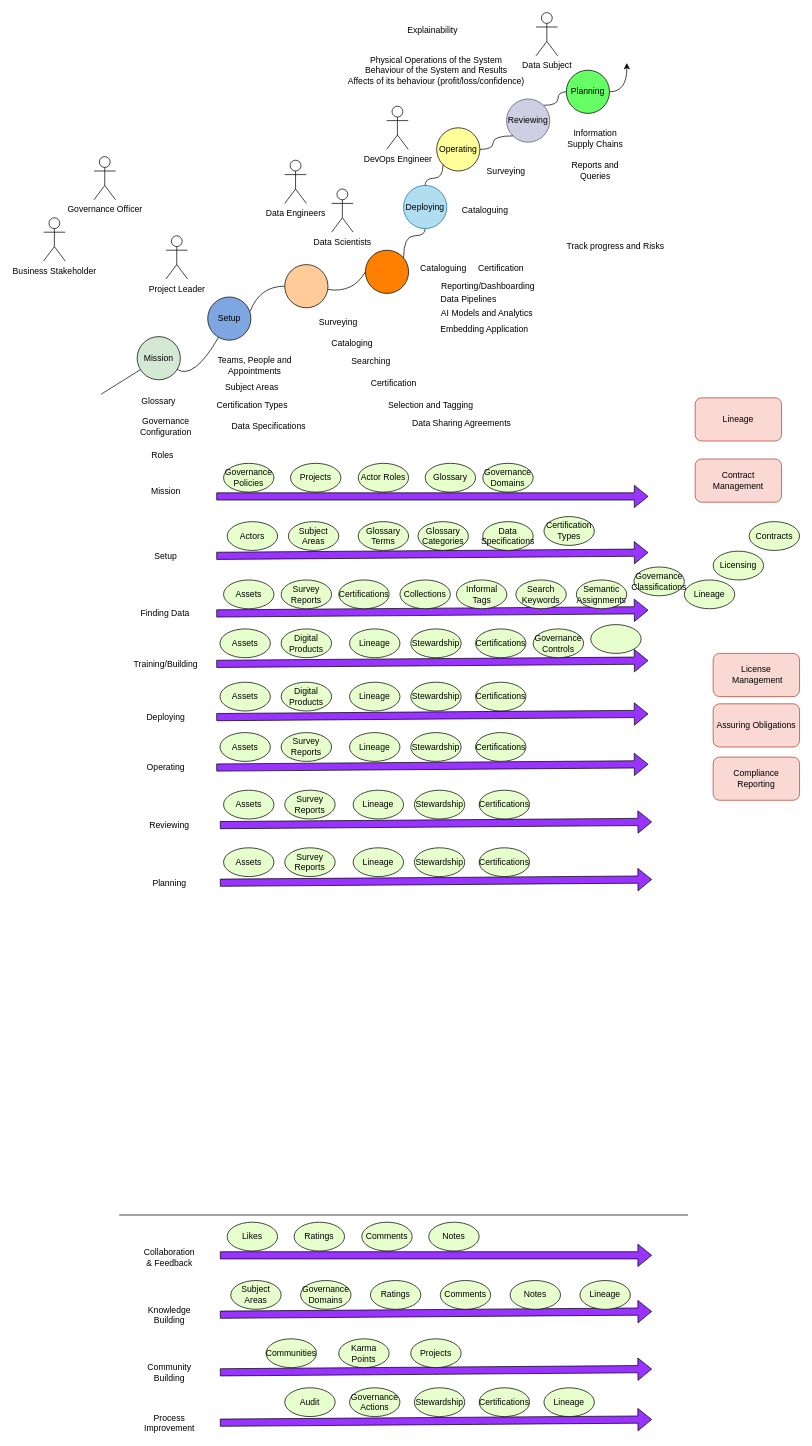
Some shapes in this 812 by 1446 pixel diagram are drawn without their labels. The box of each missing label's shape, as (x1, y1, x2, y2) in pixels:
Context Events: (590, 624, 641, 653)
Researching Artifacts: (284, 264, 328, 308)
Training /Building: (365, 249, 409, 293)
